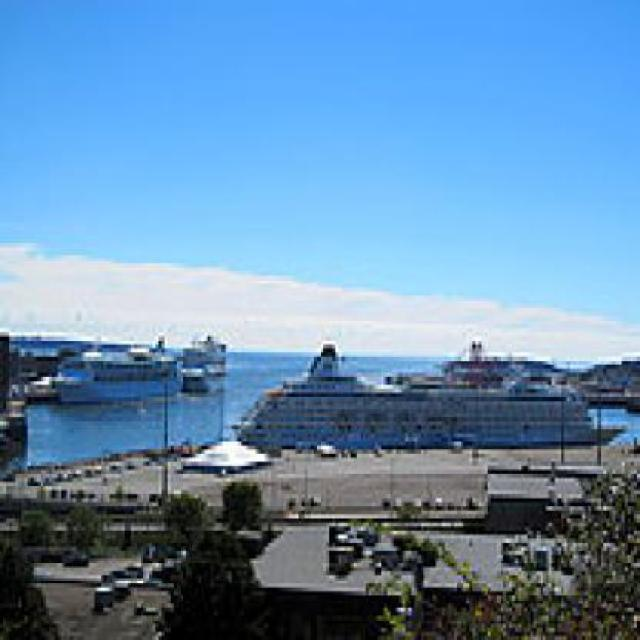cruise: (230, 329, 636, 467)
